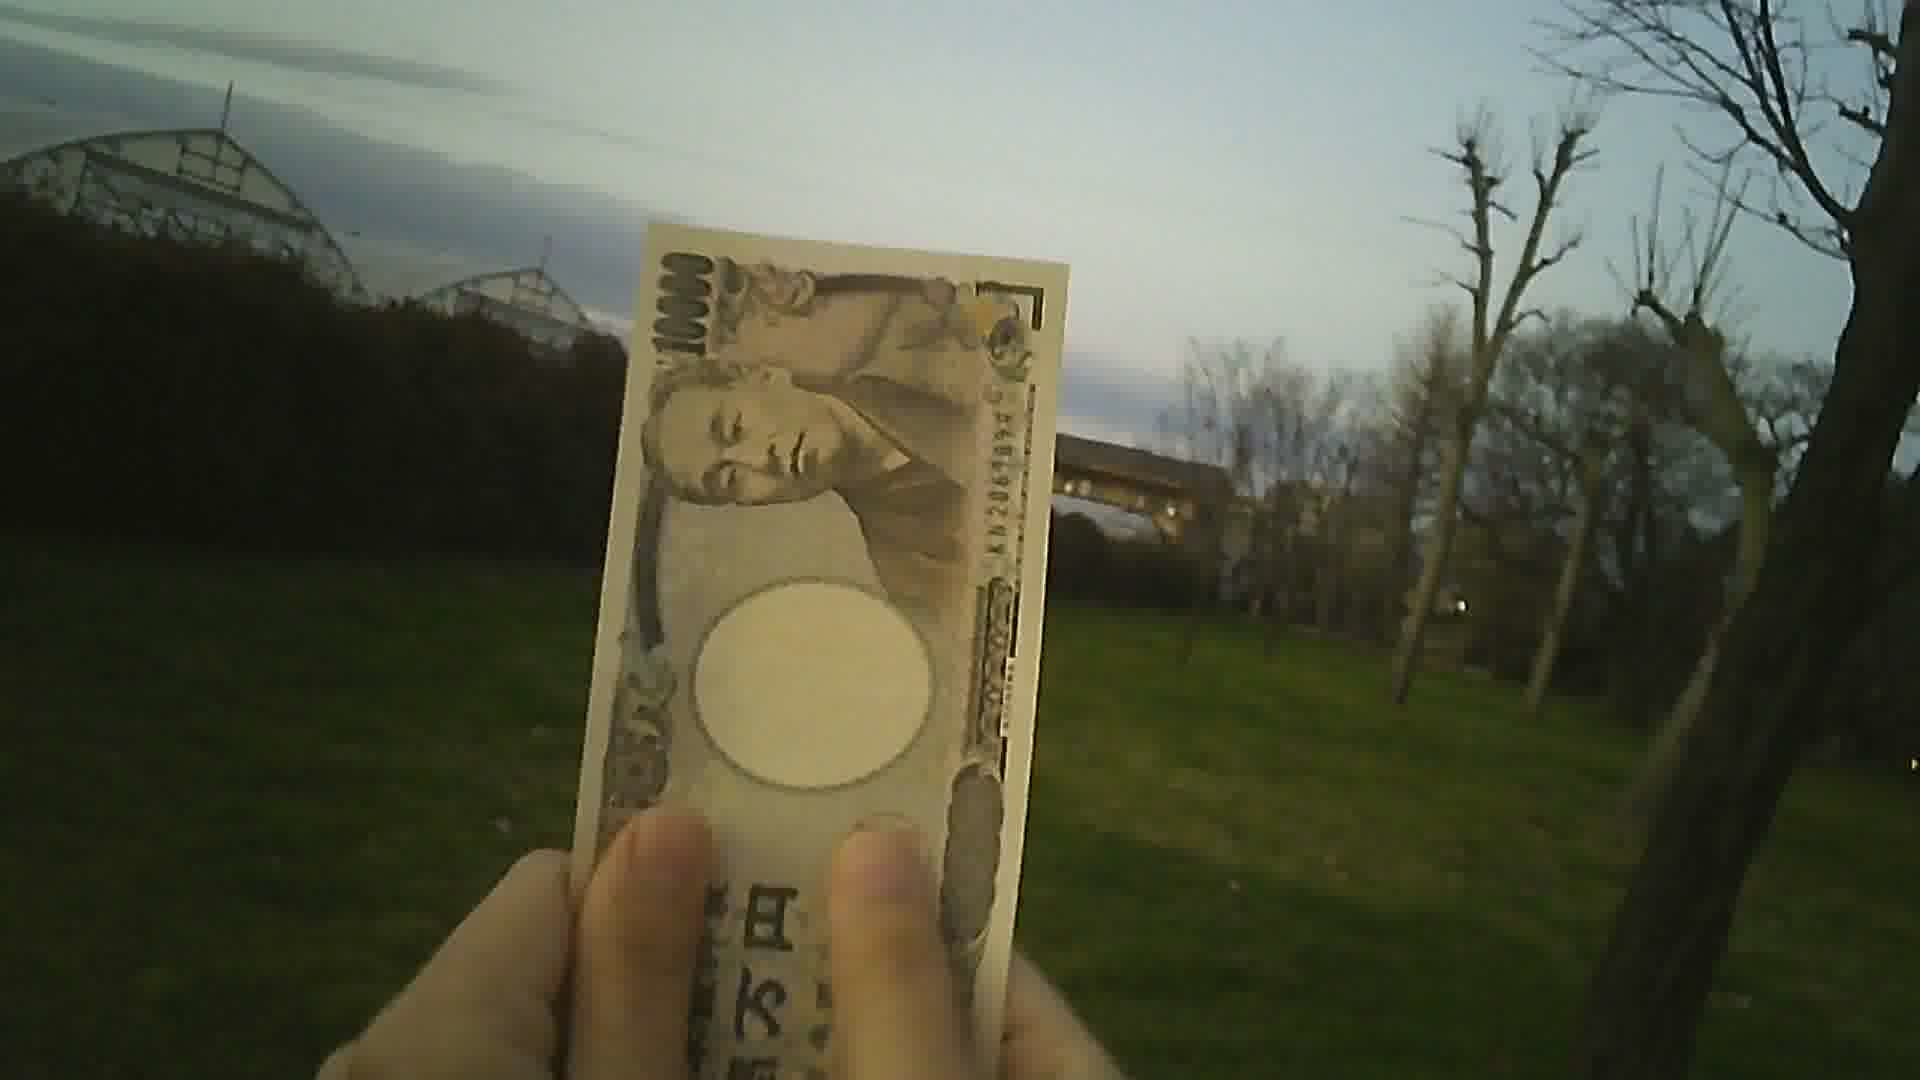10,000 Yen: (556, 218, 1063, 1079)
